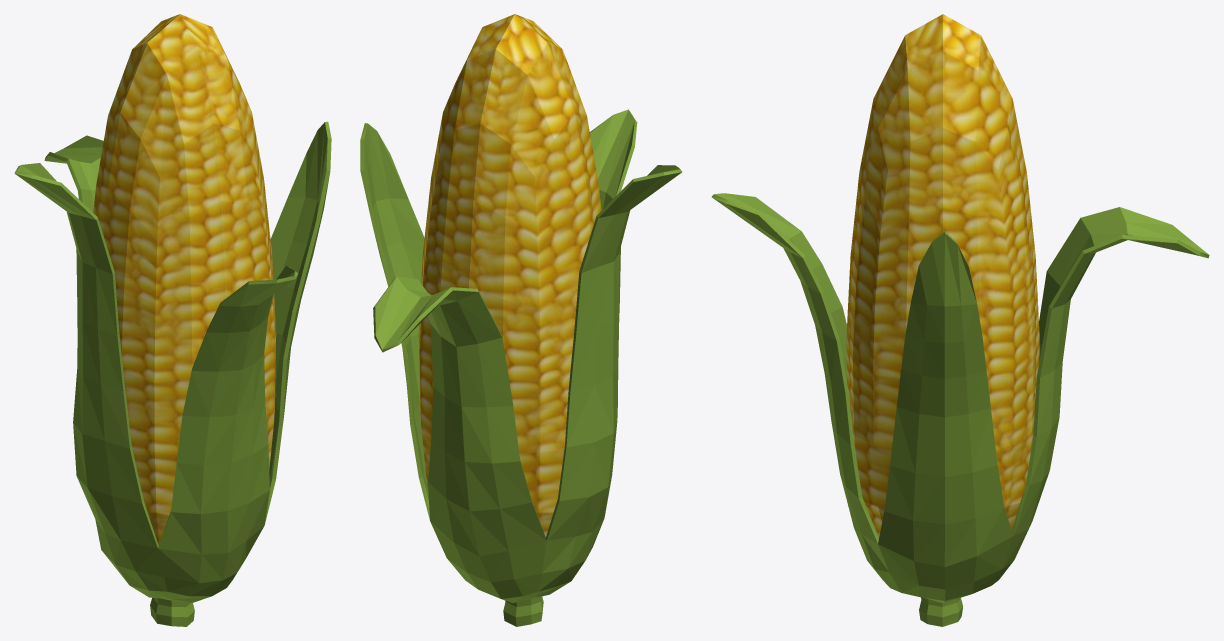
The model's file is kocan.glb.
3 renders of one model, left to right at view 1: azimuth 30°, elevation 25°; view 2: azimuth 150°, elevation 25°; view 3: azimuth 270°, elevation 25°, orthographic.
Parts seen in each view (by area): view 1: Node; view 2: Node; view 3: Node.
Boxes of the visible parts, x1,y1,x2,y2 form: Node: (14,14,331,626); Node: (360,14,682,626); Node: (711,14,1209,626).
Size of the model in its own units: 1.7 by 3.12 by 2.3.
Materials: 2 (1 with a texture image).
